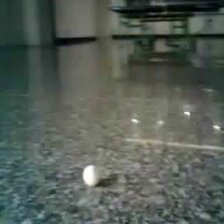w: (82, 165, 100, 186)
